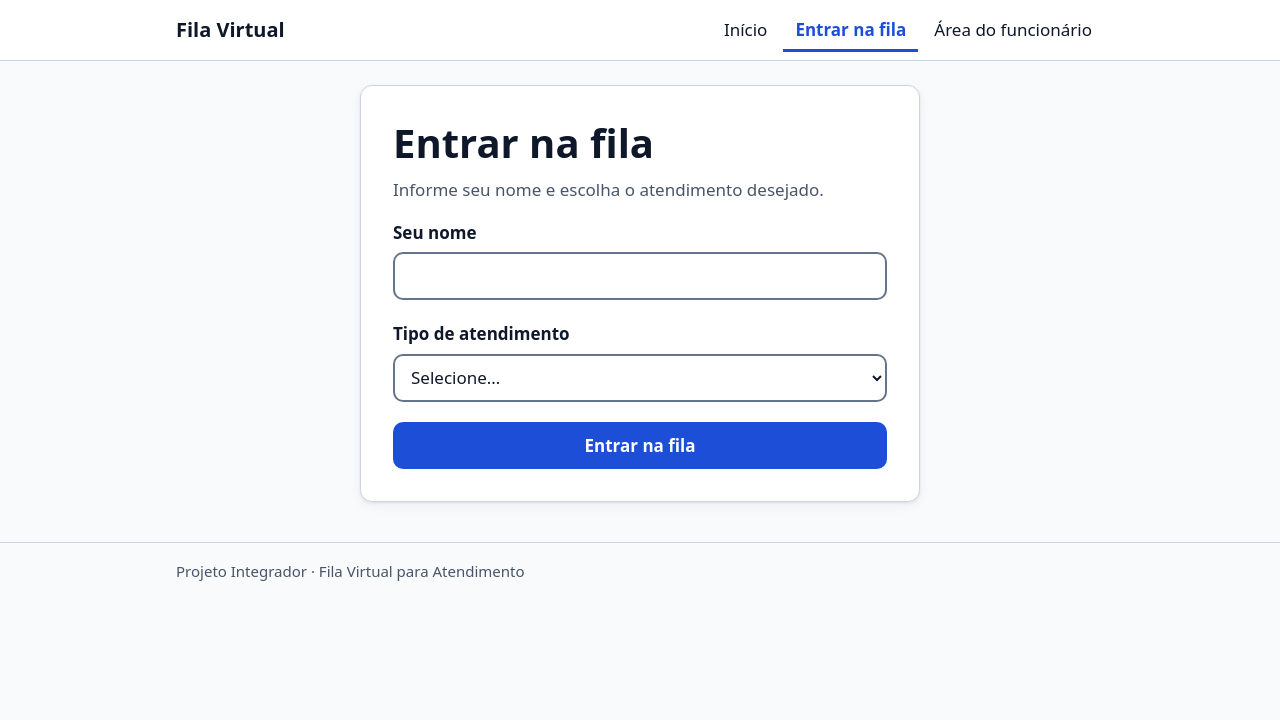
Test: Entrar na fila (cliente, sem login) › entra na fila e mostra a senha, a posição e quantas pessoas estão à frente
Type "  Maria   Souza " into the field labelled "Seu nome" at x=640, y=276, box [393, 252, 887, 300]
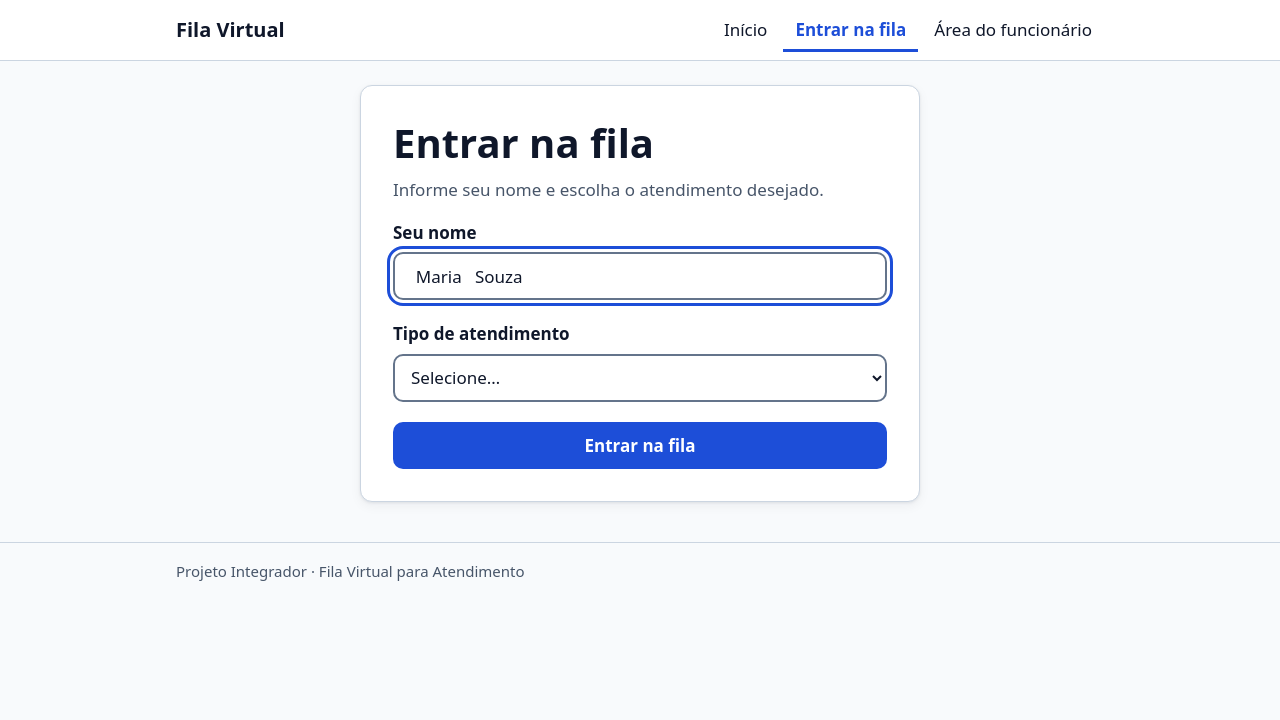
Select "Atendimento Geral" in the dropdown labelled "Tipo de atendimento" at x=640, y=378, box [393, 354, 887, 402]
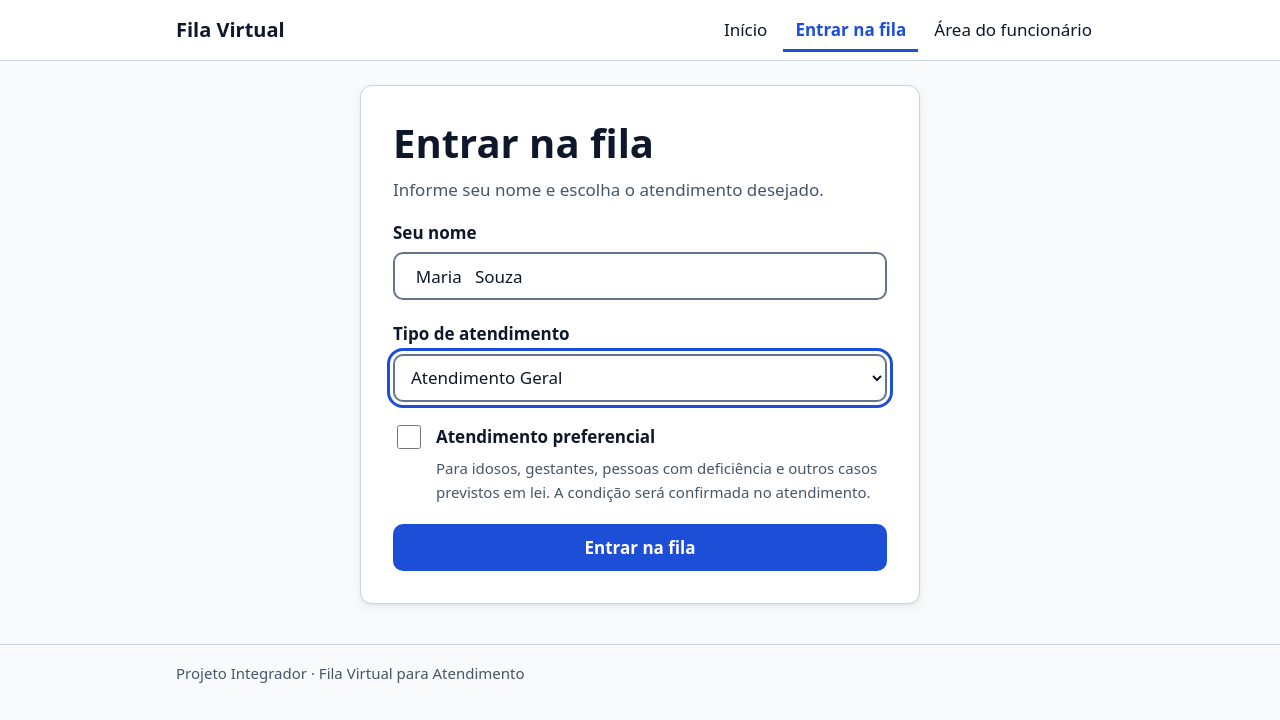
Click the button "Entrar na fila" at x=640, y=547, box [393, 524, 887, 571]
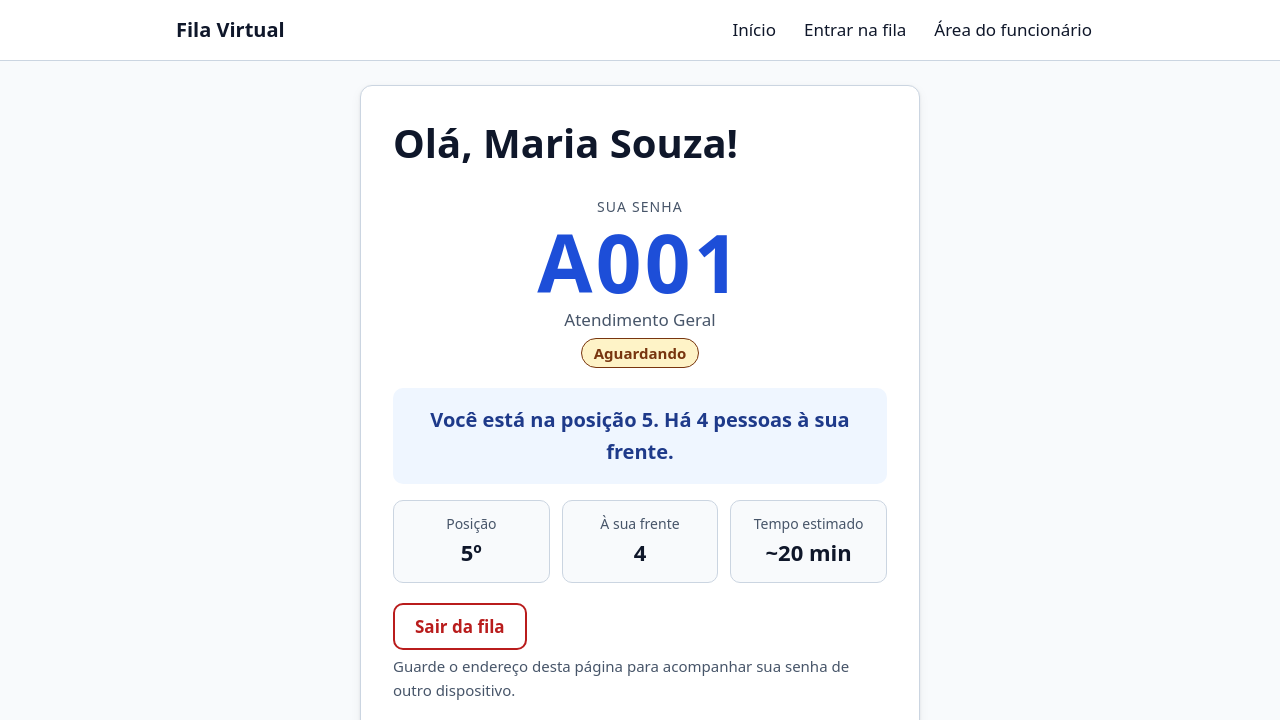
Check: the heading "Olá, Maria Souza!" is shown, box [393, 115, 738, 170]
Check: the text "A001" is shown, box [537, 222, 743, 302]
Check: the message reads "Você está na posição 5. Há 4 pessoas à sua frente.", box [430, 406, 850, 465]
